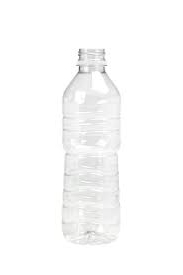plastic water bottle: (61, 45, 123, 248)
